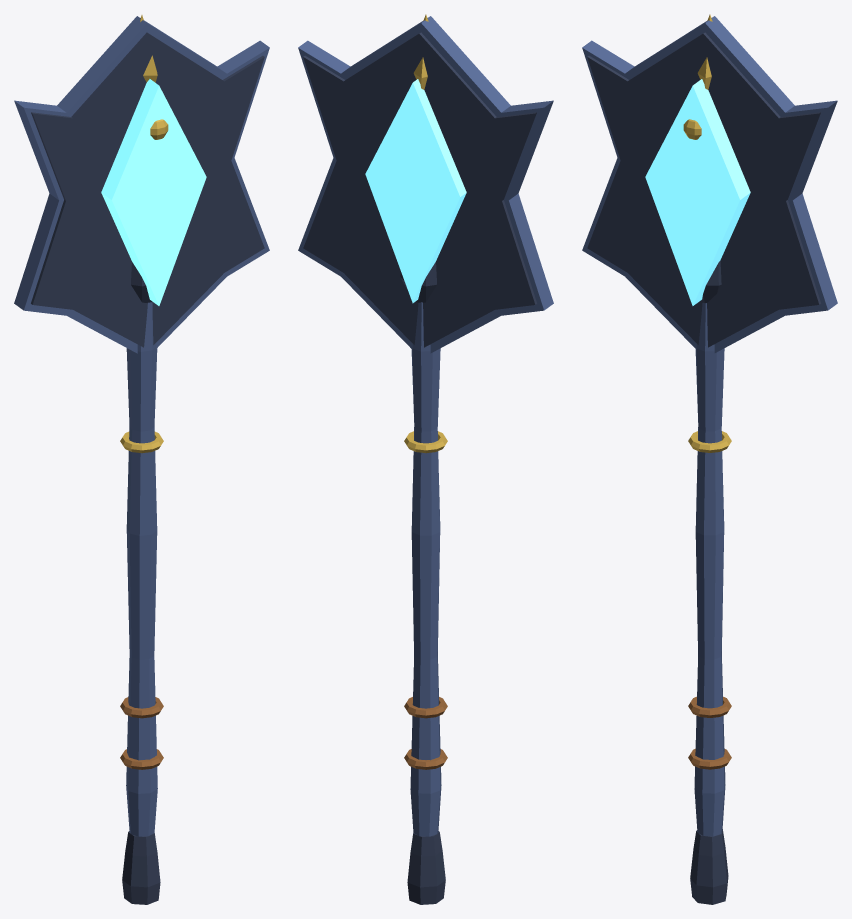
File: staff_arrowhead.glb
3 views of the same model, side by side, from view 1: azimuth 30°, elevation 25°; view 2: azimuth 150°, elevation 25°; view 3: azimuth 330°, elevation 25° (orthographic).
Parts seen in each view (by area): view 1: Ah_Frame, Ah_Shaft, Ah_Gem, Ah_Edge, Ah_Butt, Ah_Band2; view 2: Ah_Frame, Ah_Shaft, Ah_Gem, Ah_Edge, Ah_Butt, Ah_Band2; view 3: Ah_Frame, Ah_Shaft, Ah_Gem, Ah_Edge, Ah_Butt, Ah_Band2.
Part boxes in pixels (x1,y1,x2,y2): Ah_Frame: (31, 32, 264, 347); Ah_Shaft: (126, 302, 157, 836); Ah_Gem: (101, 79, 206, 305); Ah_Edge: (14, 16, 269, 353); Ah_Butt: (122, 831, 160, 904); Ah_Band2: (120, 431, 163, 453); Ah_Frame: (303, 32, 536, 347); Ah_Shaft: (410, 302, 441, 836); Ah_Gem: (365, 79, 466, 303); Ah_Edge: (298, 16, 553, 353); Ah_Butt: (407, 831, 445, 904); Ah_Band2: (404, 431, 447, 453); Ah_Frame: (587, 32, 820, 347); Ah_Shaft: (694, 302, 725, 836); Ah_Gem: (645, 79, 750, 305); Ah_Edge: (582, 16, 837, 352); Ah_Butt: (690, 829, 728, 904); Ah_Band2: (688, 431, 731, 452).
Bounding box in the file's own units: 0.6996 × 2.4 × 0.1602.
